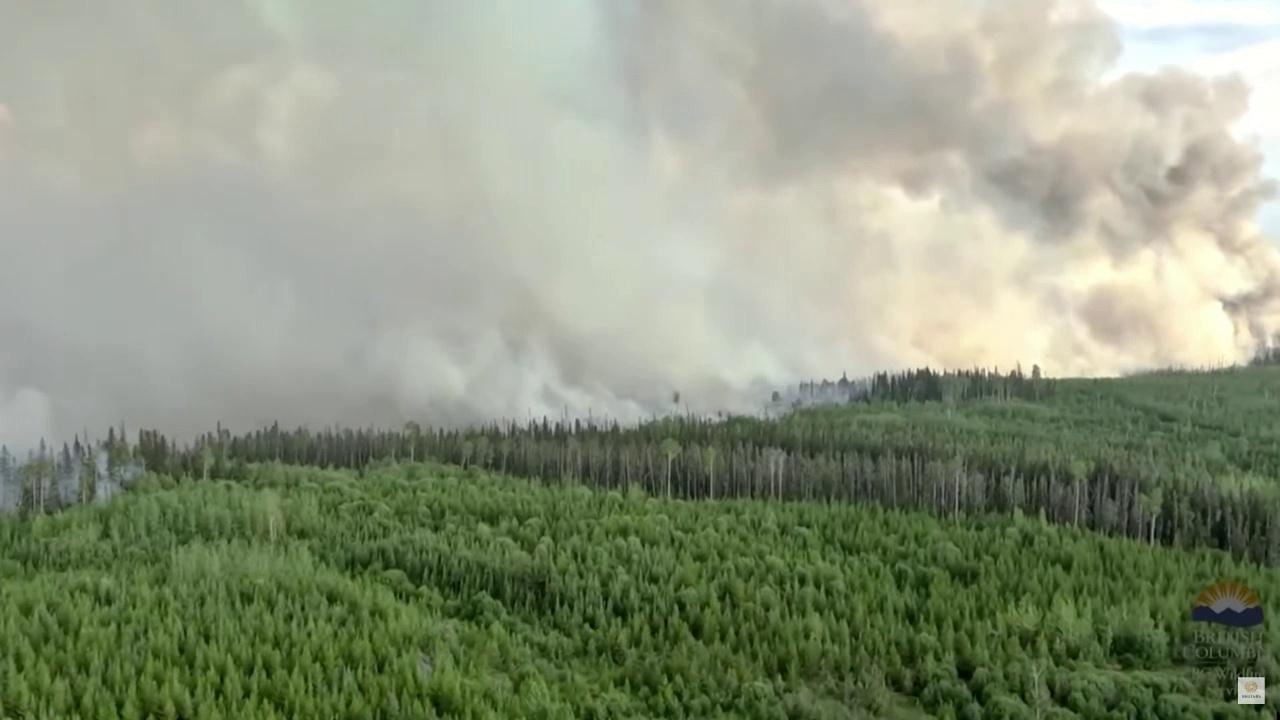smoke: (0, 0, 1280, 517)
